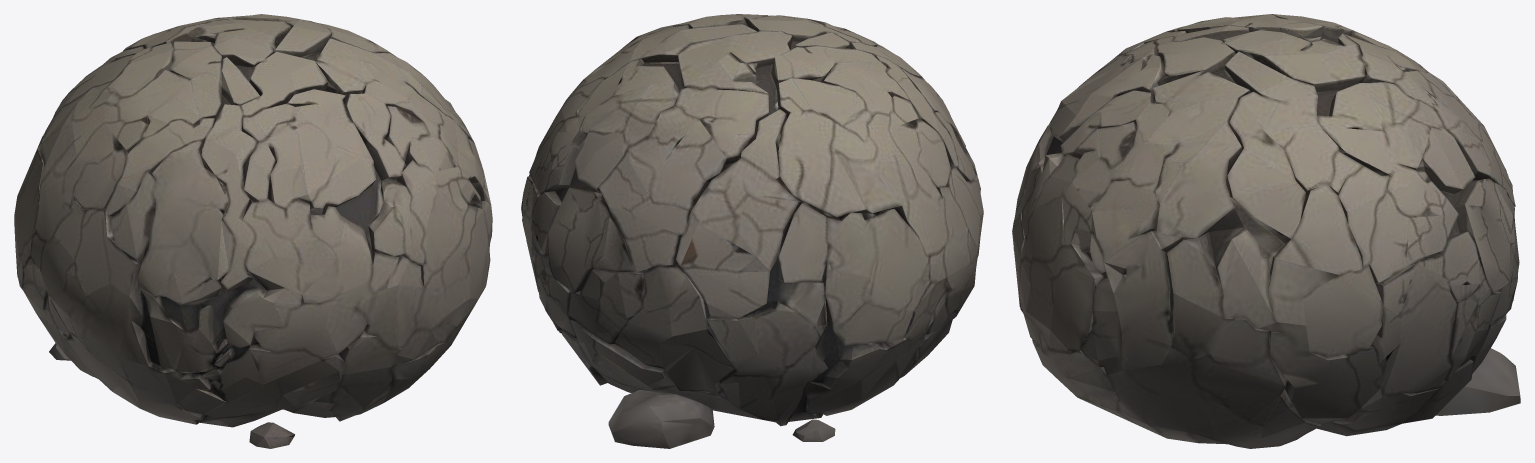
The model's file is boulder.glb.
3 views of the same model, side by side, from view 1: azimuth 30°, elevation 25°; view 2: azimuth 150°, elevation 25°; view 3: azimuth 270°, elevation 25° (orthographic). The views are drawn at different scales.
Visible parts, largest first — view 1: output_unwrapped; view 2: output_unwrapped; view 3: output_unwrapped.
Part boxes in pixels (x1,y1,x2,y2): output_unwrapped: (14, 14, 492, 448); output_unwrapped: (521, 14, 983, 448); output_unwrapped: (1012, 14, 1520, 448).
Size of the model in its own units: 1.87 by 1.43 by 1.89.
Materials: 1 (1 with a texture image).
